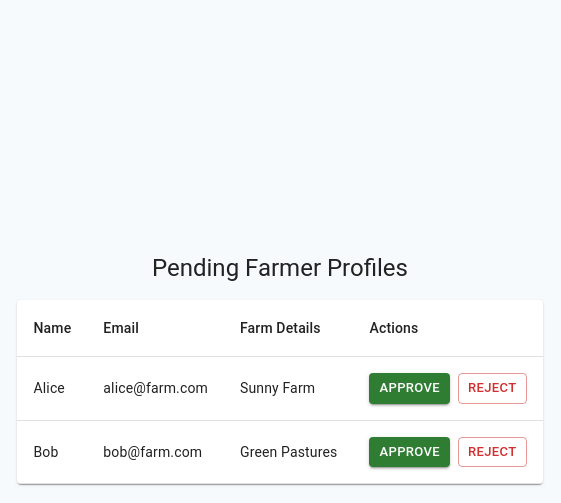
Scenario: ProfileReviewApproval › renders pending farmers and allows approval
The image size is (561, 503).
Expected: the text "Alice" is shown, [18,356,87,420]
Click the button "Approve" in the row of "alice@farm.com": (410, 388) [369,373,450,404]
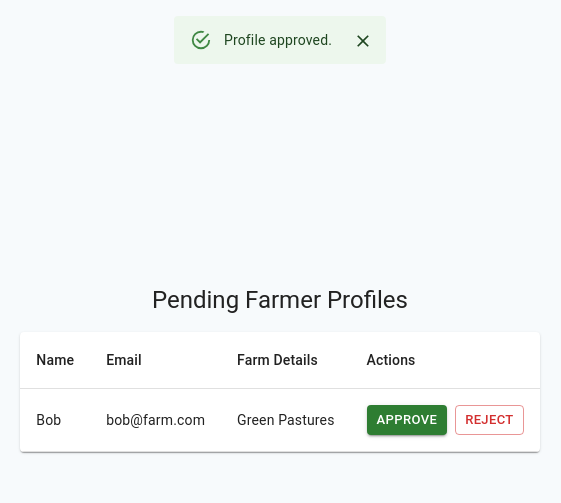
Now the text "Profile approved." is shown, box [224,32,332,48]
